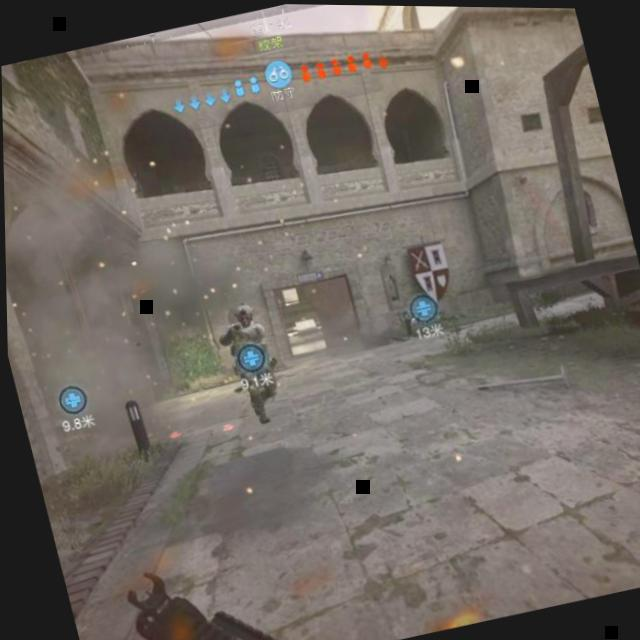MW2_body: (210, 299, 284, 429)
